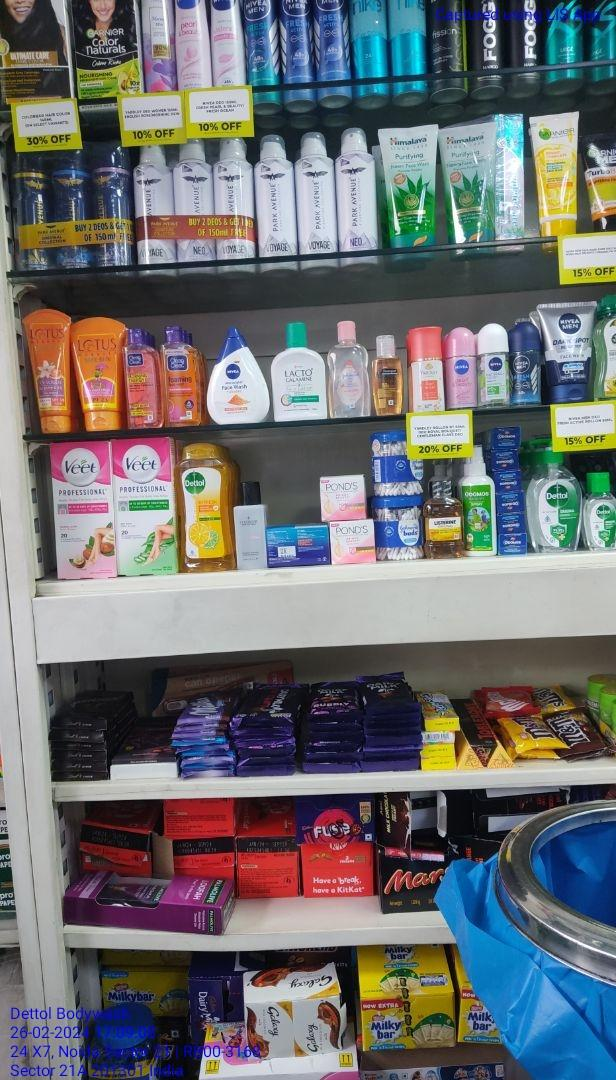Dettol_Bodywash_Refresh: (179, 443, 233, 573)
